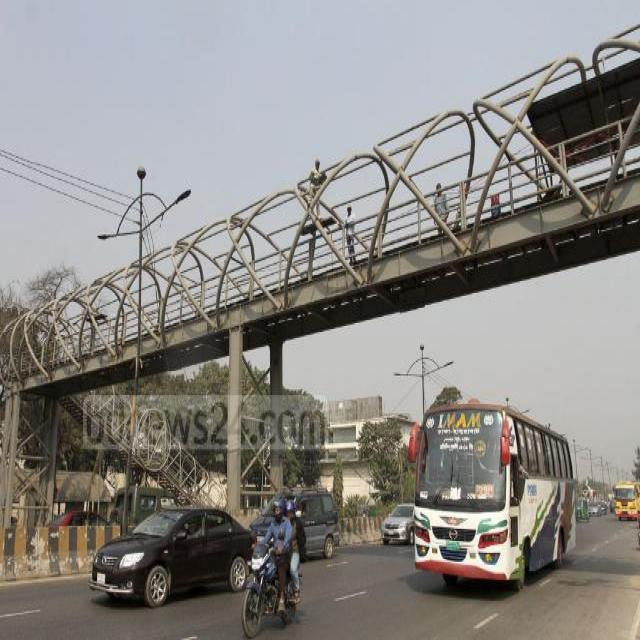bike: (243, 535, 305, 636)
vehicle: (413, 397, 576, 595), (85, 505, 241, 613), (253, 483, 342, 560), (379, 498, 413, 554), (111, 480, 179, 504), (611, 479, 640, 522), (47, 508, 109, 523), (576, 495, 589, 522), (588, 498, 600, 518), (601, 495, 609, 512)
